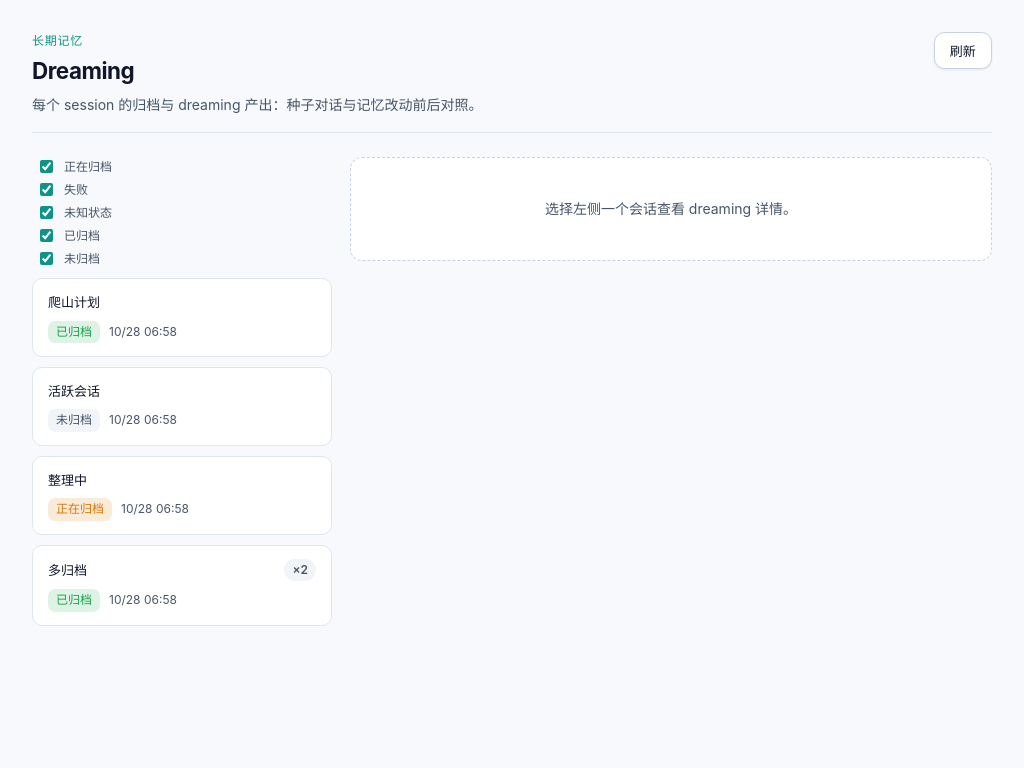
Test case: DreamingPage › lists sessions with state badges and filters them
This screenshot has width=1024, height=768.
Expected: the text "爬山计划" is shown, [48,292,100,313]
Expected: the text "活跃会话" is shown, [48,381,100,401]
Click the checkbox labelled "未归档": click(46, 259) [40,252,53,266]
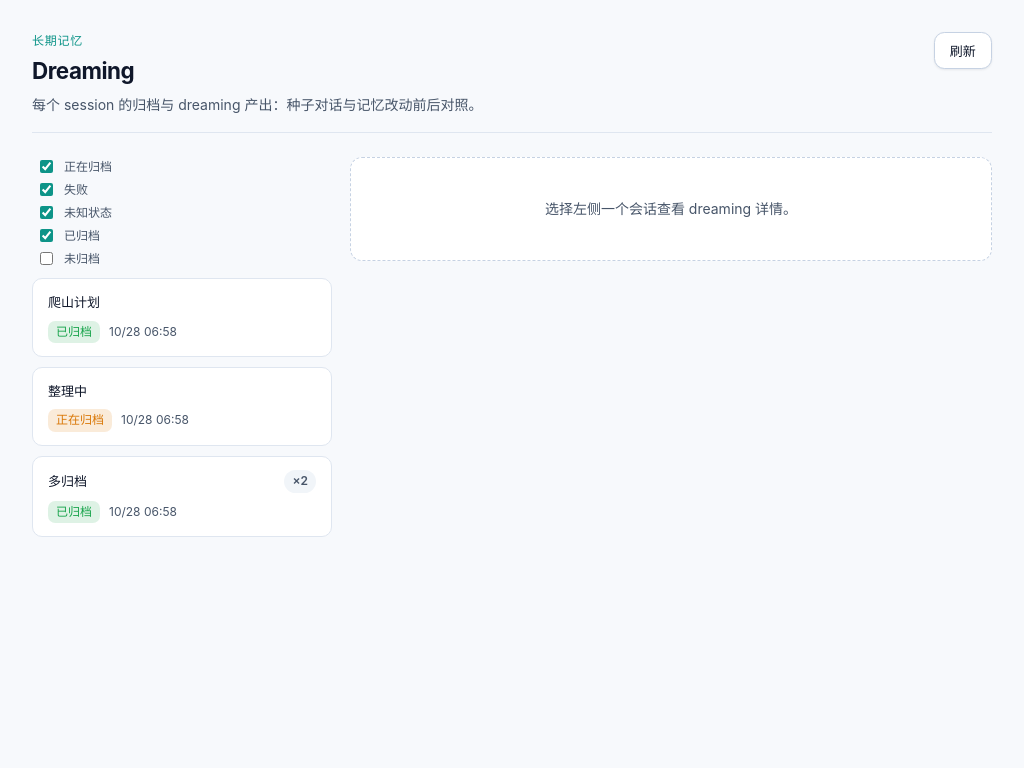
Expected: the text "爬山计划" is shown, [48,292,100,313]
Expected: the button "活跃会话" is gone
